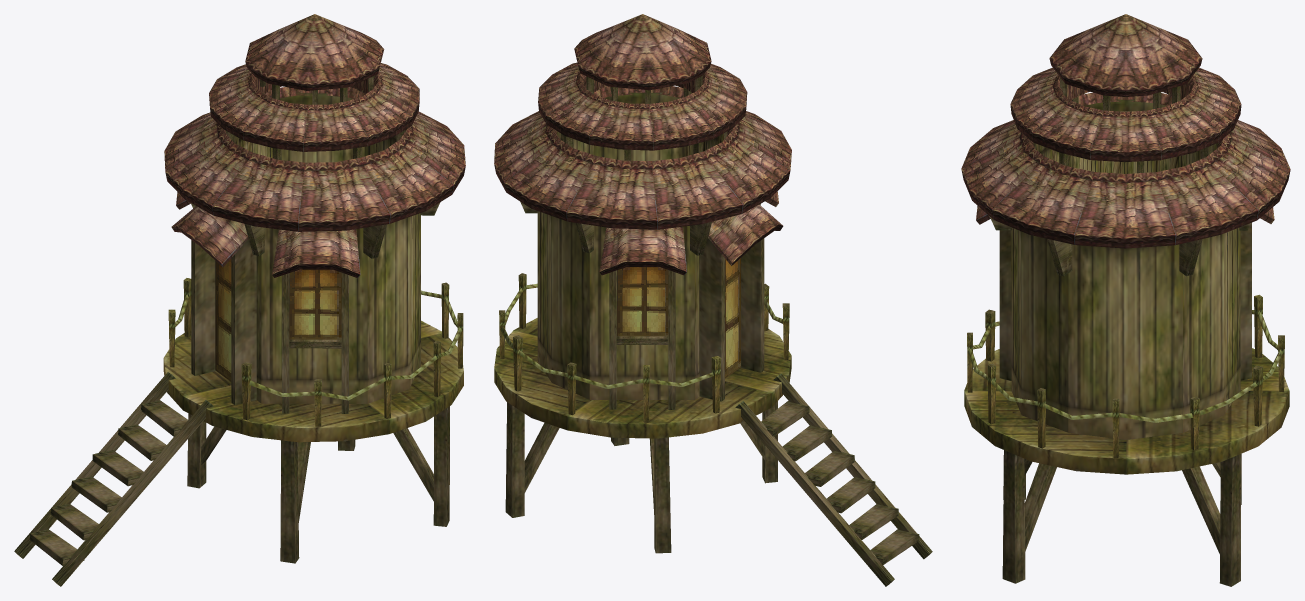
File: S_Build_Xsc059.FBX
The picture shows the model from 3 angles, left to right: view 1: azimuth 30°, elevation 25°; view 2: azimuth 150°, elevation 25°; view 3: azimuth 270°, elevation 25°; orthographic projection. The views are drawn at different scales.
Parts seen in each view (by area): view 1: S_Build_Xsc059; view 2: S_Build_Xsc059; view 3: S_Build_Xsc059.
Part boxes in pixels (box(x1,y1,x2,y2)): S_Build_Xsc059: box(14, 14, 465, 586); S_Build_Xsc059: box(494, 14, 932, 586); S_Build_Xsc059: box(961, 14, 1290, 586).
Size of the model in its own units: 945 by 1094 by 614.
